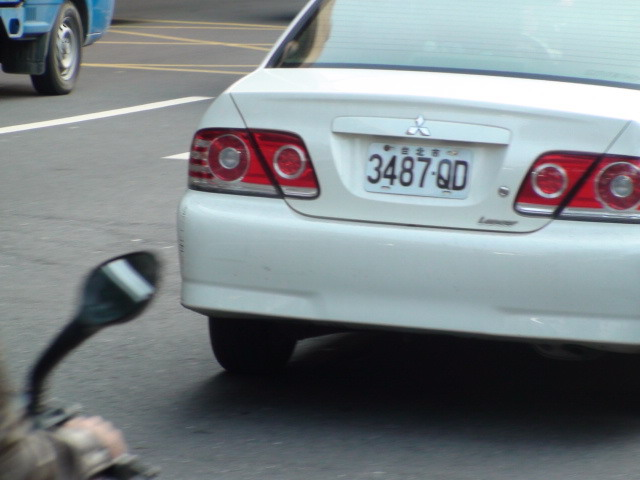plate: (362, 139, 472, 197)
